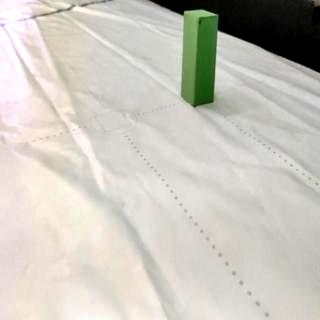greenbox: (181, 9, 219, 106)
